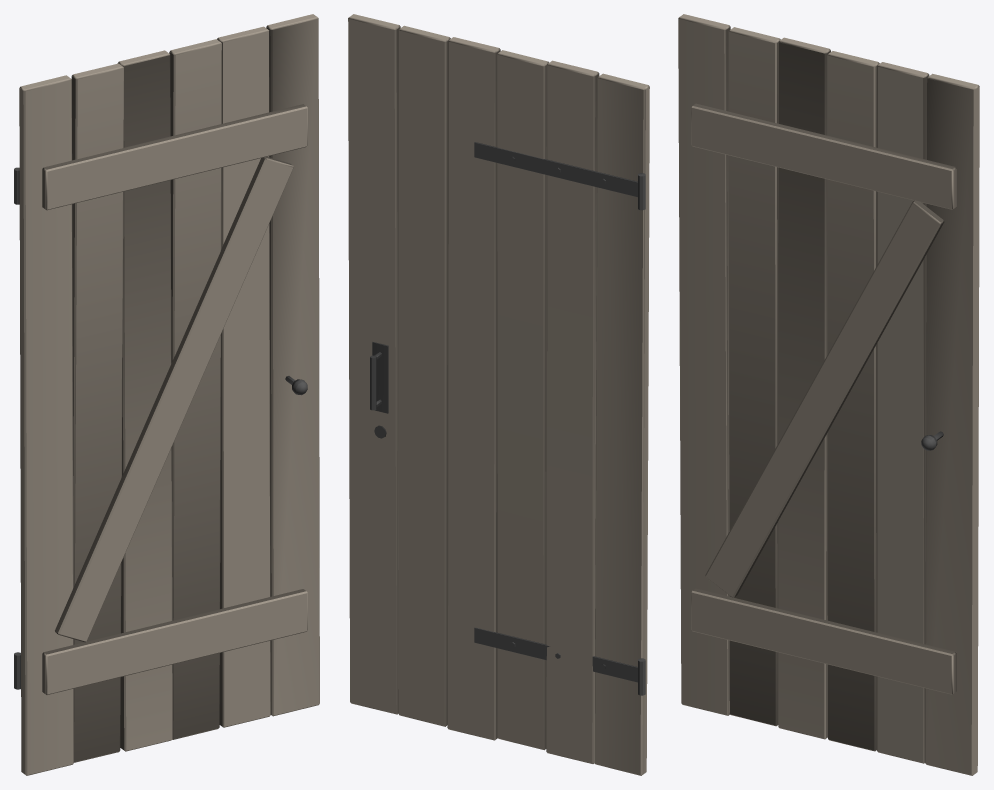
File: door_leaf.glb
3 views of the same model, side by side, from view 1: azimuth 30°, elevation 25°; view 2: azimuth 150°, elevation 25°; view 3: azimuth 330°, elevation 25° (orthographic).
Parts seen in each view (by area): view 1: static; view 2: static; view 3: static.
Boxes of the visible parts, x1,y1,x2,y2 form: static: (14,14,319,775); static: (348,14,649,775); static: (678,14,979,775).
Size of the model in its own units: 0.9215 by 2.03 by 0.166.
